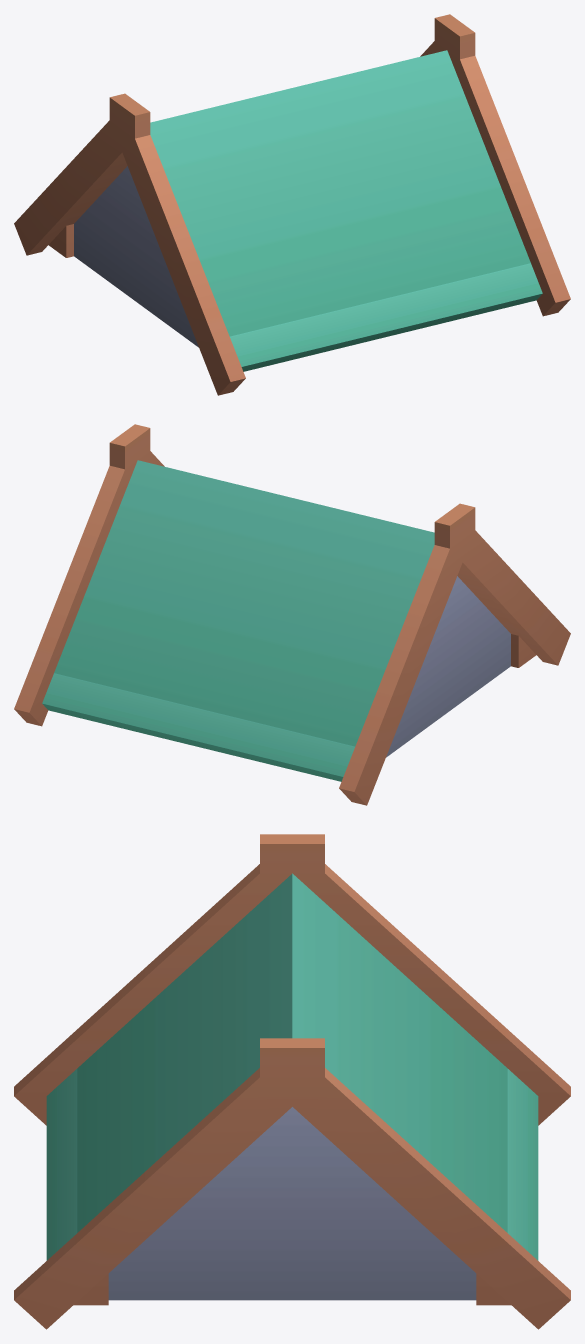
The model's file is roof-gable-detail.glb.
3 renders of one model, top to bottom at view 1: azimuth 30°, elevation 25°; view 2: azimuth 150°, elevation 25°; view 3: azimuth 270°, elevation 25°, orthographic. The views are drawn at different scales.
Visible parts, largest first — view 1: roof-gable-detail; view 2: roof-gable-detail; view 3: roof-gable-detail.
Part boxes in pixels (<box>): roof-gable-detail: <box>14,14,570,395</box>; roof-gable-detail: <box>14,424,570,805</box>; roof-gable-detail: <box>14,834,570,1329</box>.
Bounding box in the file's own units: 1.1 × 0.6767 × 1.21.
1 material, 1 textured.
